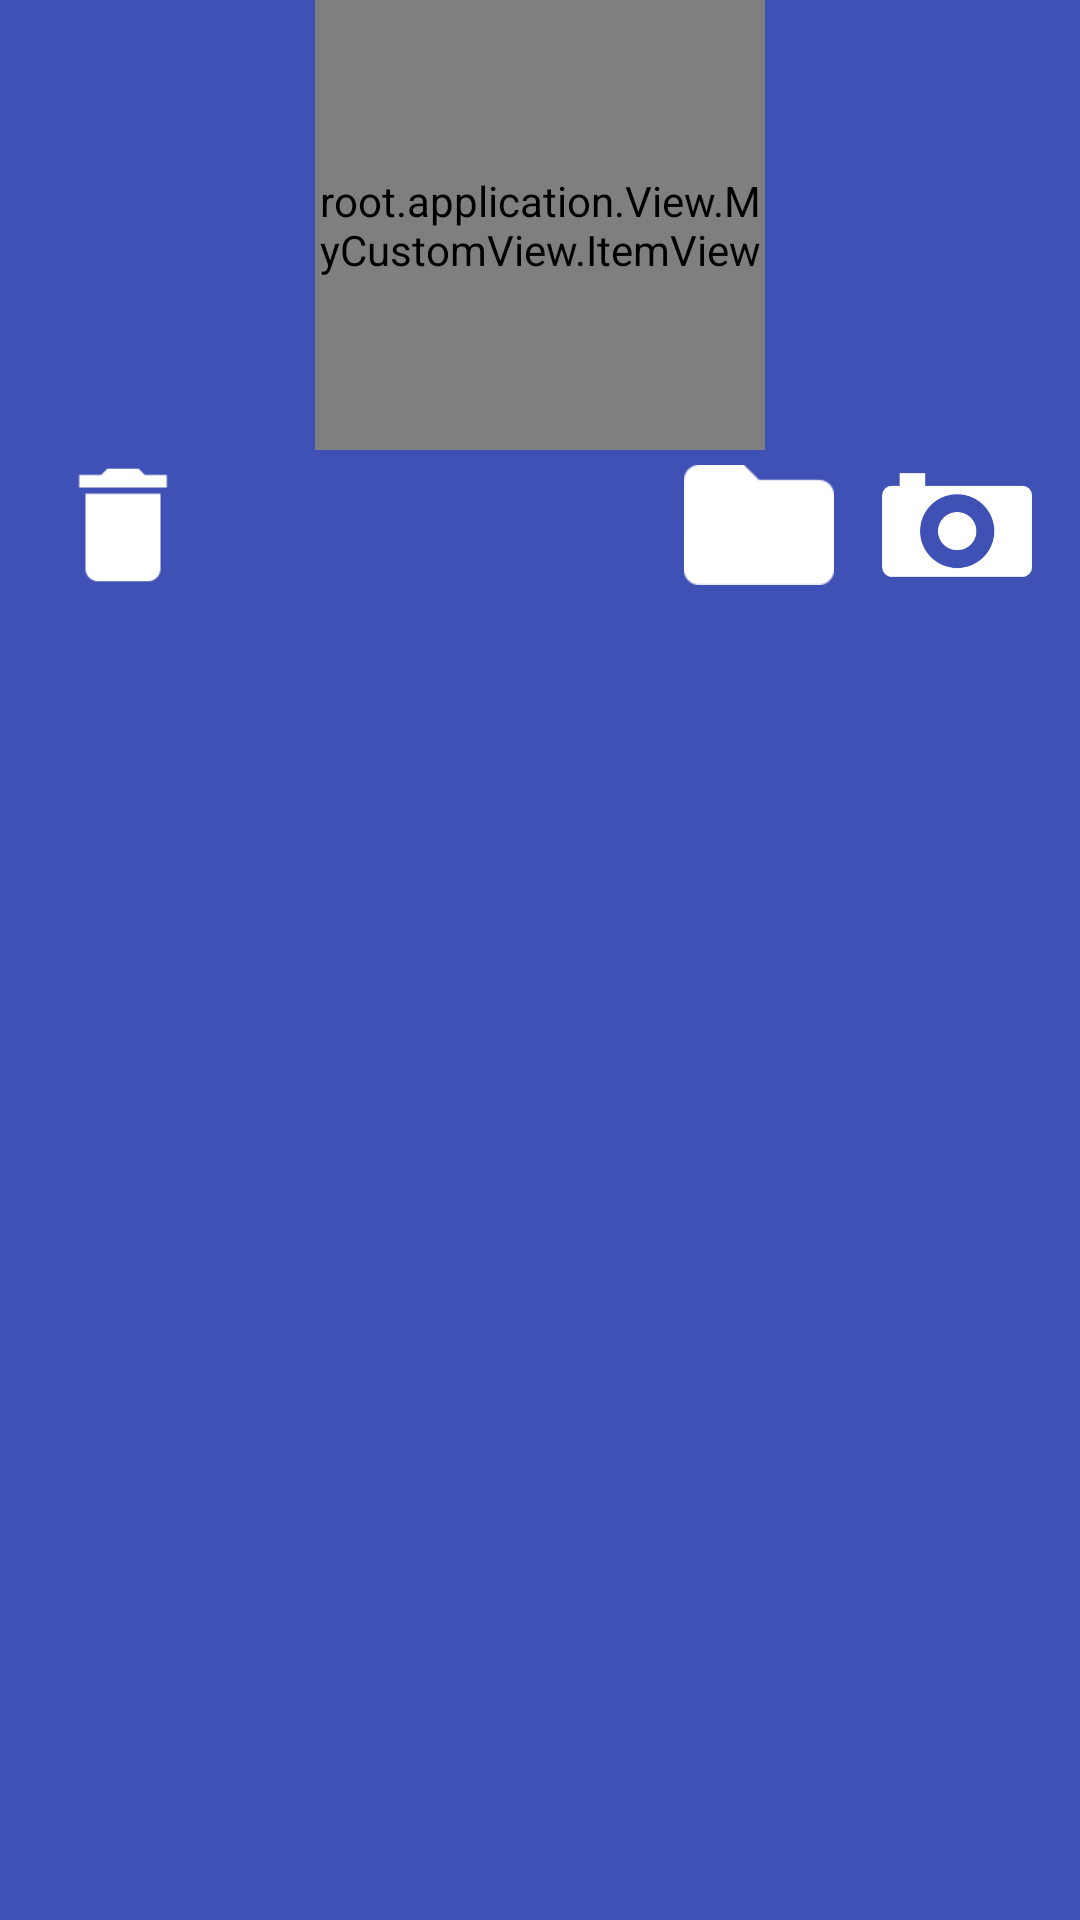

Point at icon controls on the screen. Image size 1080 × 1920, points as (x=x, y=y).
delete: (x=123, y=525)
folder: (x=759, y=525)
